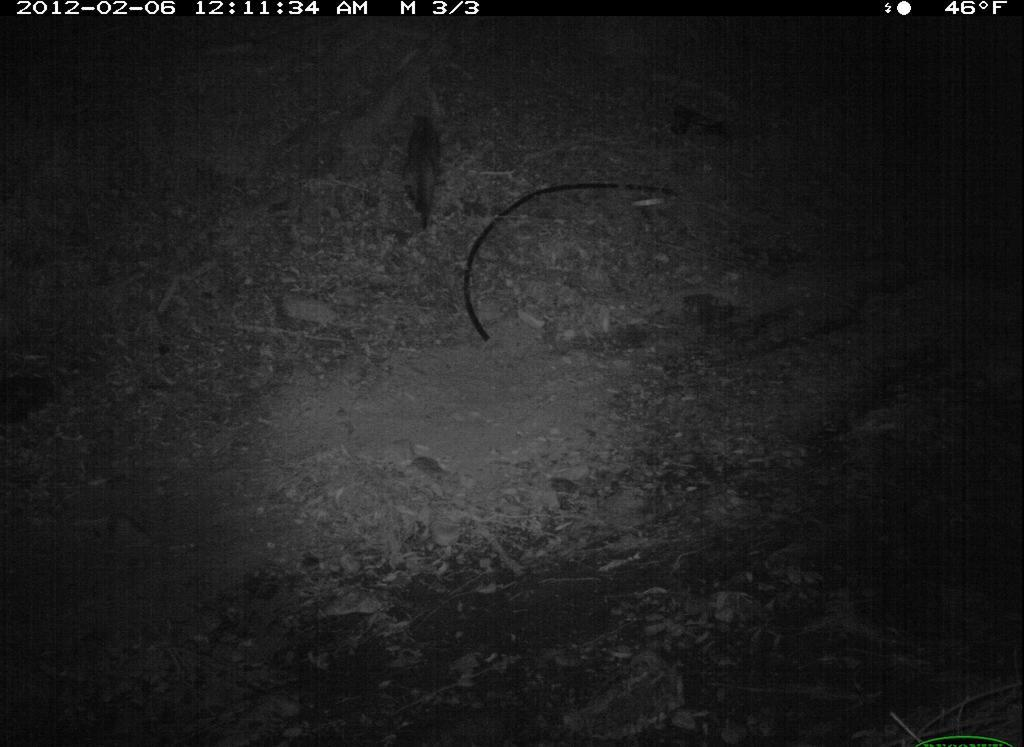cat: (385, 103, 452, 242)
